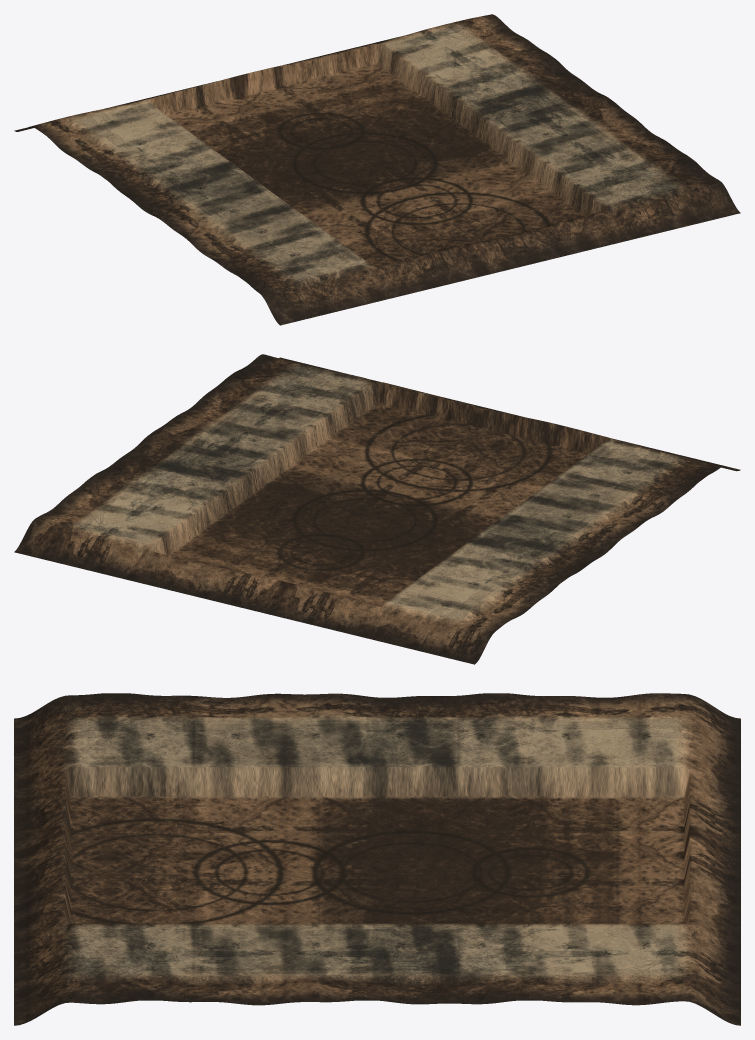
Rendered from echo-canyon-terrain.glb.
3 views of the same model, one above another, from view 1: azimuth 30°, elevation 25°; view 2: azimuth 150°, elevation 25°; view 3: azimuth 270°, elevation 25° (orthographic). The views are drawn at different scales.
Parts seen in each view (by area): view 1: EchoCanyonTerrain; view 2: EchoCanyonTerrain; view 3: EchoCanyonTerrain.
Part boxes in pixels (left/top/right/bottom): EchoCanyonTerrain: left=14, top=14, right=740, bottom=325; EchoCanyonTerrain: left=14, top=354, right=740, bottom=664; EchoCanyonTerrain: left=14, top=693, right=740, bottom=1025.
Size of the model in its own units: 128 by 5.17 by 128.
Materials: 1 (1 with a texture image).
